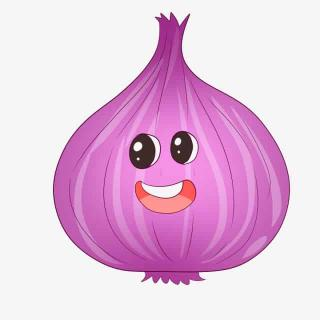Bawang Merah: (53, 12, 291, 286)
